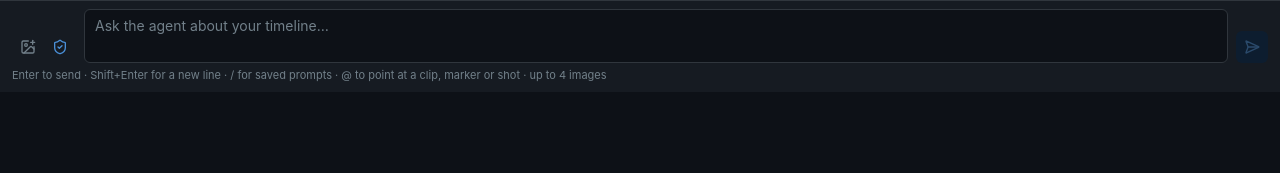
Test: Composer › saved prompts (Phase 8h) › lists prompts after a /, filtered as you type
Step 1. Type "/" into the text box named "Message the agent" → [656, 36], box [84,9,1228,63]
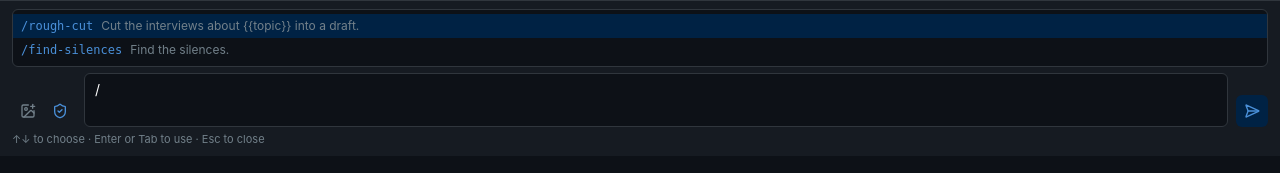
Check: the number of options is 2, box [13,14,1267,38]; [21,42,229,57]
Step 2. Replace the text in the text box named "Message the agent" with "/sil" → [656, 100], box [84,73,1228,127]
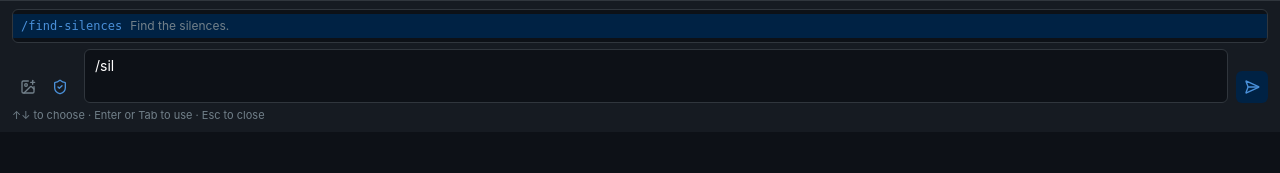
Check: the options read "/find-silencesFind the silences.", in this order, box [13,14,1267,38]
Step 3. Replace the text in the text box named "Message the agent" with "/sil and more" → [656, 76], box [84,49,1228,103]
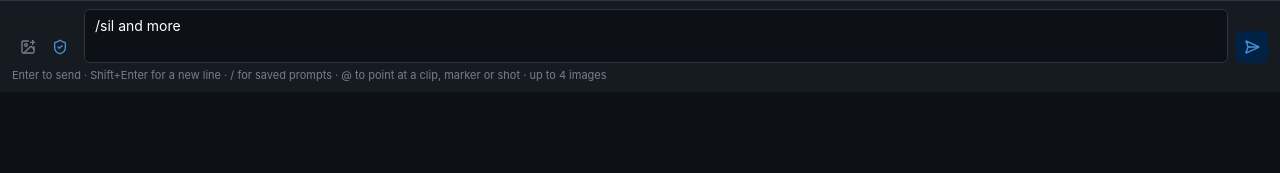
Check: the list is gone
